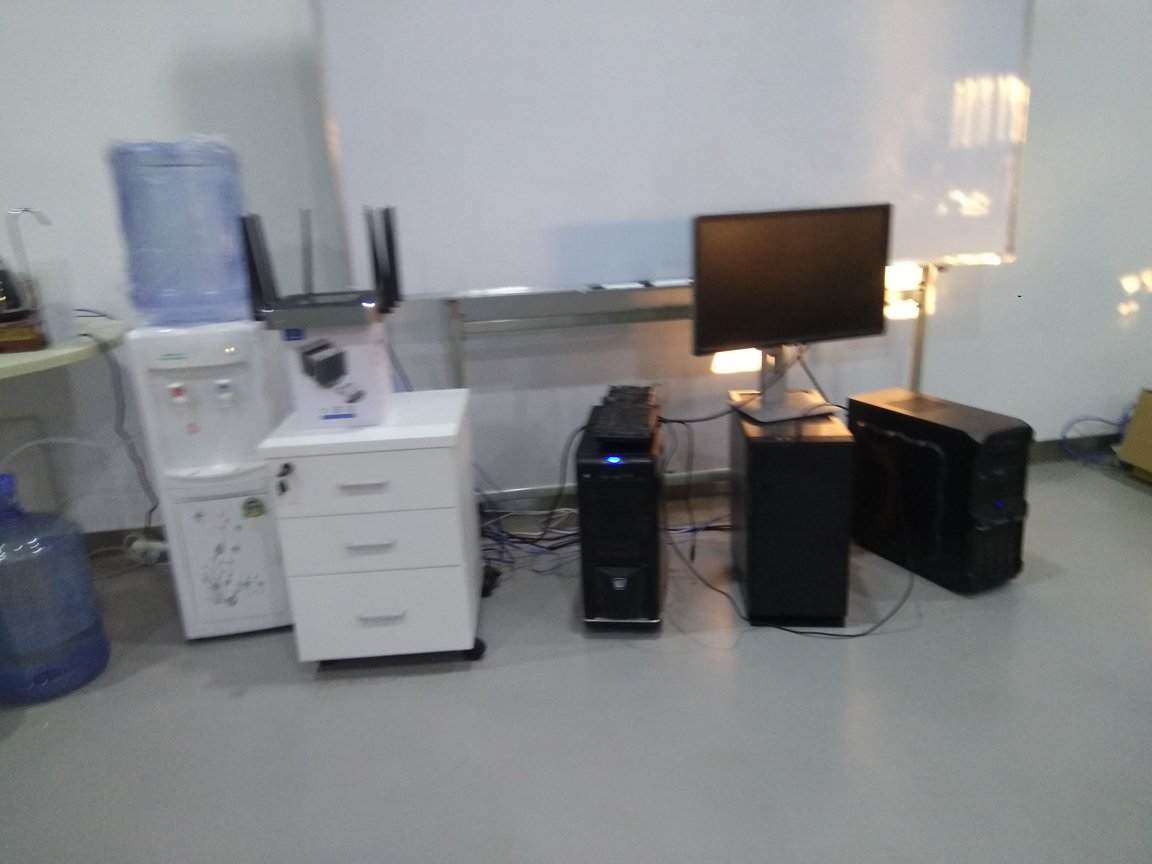computer: (836, 384, 1043, 602), (728, 385, 867, 638), (564, 388, 696, 653)
drawer chest: (250, 387, 504, 674)
monitor: (687, 202, 904, 431)
scuttlebutt: (107, 132, 254, 331), (1, 476, 117, 701)
water dispenser: (128, 316, 310, 633)
